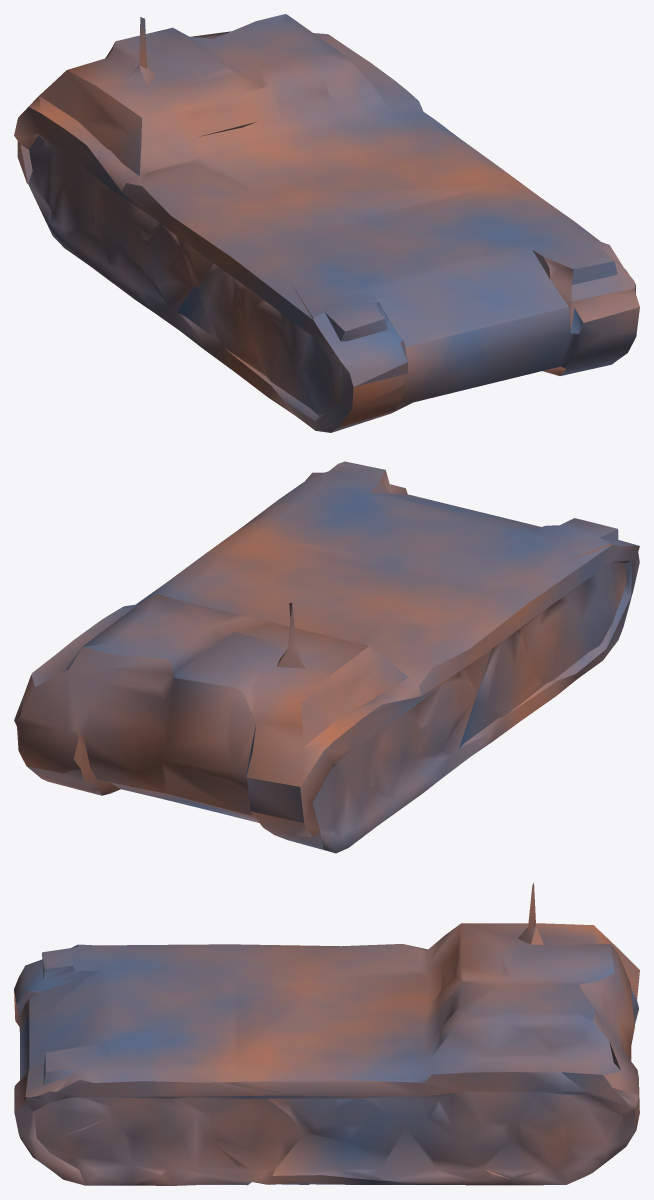
File: chassis_original.glb
3 renders of one model, top to bottom at view 1: azimuth 30°, elevation 25°; view 2: azimuth 150°, elevation 25°; view 3: azimuth 270°, elevation 25°, orthographic. The views are drawn at different scales.
Parts seen in each view (by area): view 1: geometry_0; view 2: geometry_0; view 3: geometry_0.
Part boxes in pixels (left/top/right/bottom): geometry_0: left=14, top=14, right=639, bottom=432; geometry_0: left=14, top=461, right=639, bottom=853; geometry_0: left=14, top=882, right=639, bottom=1185.
Size of the model in its own units: 0.5154 by 0.3638 by 1.
1 material, 1 textured.
